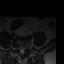CCS_normal: (21, 46, 23, 55)
LFS_severe_stenosis: (24, 45, 26, 51)
LLS_normal: (23, 46, 24, 53)
RFS_severe_stenosis: (17, 45, 19, 51)
RLS_normal: (19, 46, 21, 53)
